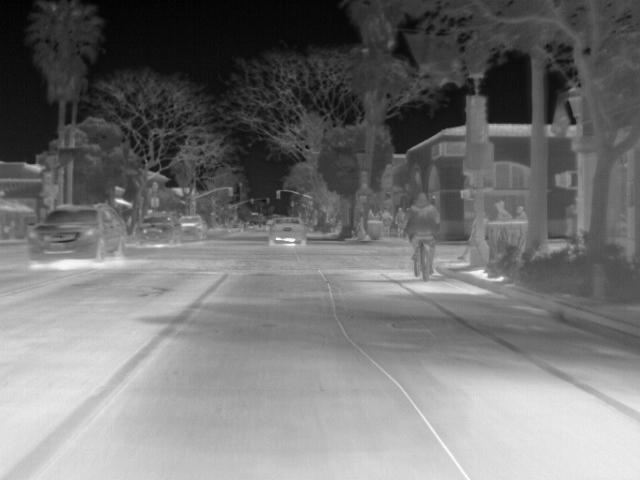car: (26, 204, 124, 266), (265, 216, 312, 248), (131, 213, 177, 245), (178, 213, 209, 241)
person: (404, 194, 444, 260), (392, 206, 408, 239), (493, 200, 513, 219), (513, 205, 530, 224)
